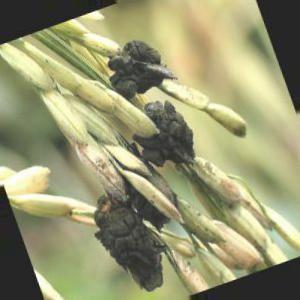Leaf_Scald: (93, 201, 168, 276), (141, 104, 186, 168), (110, 51, 160, 104)
